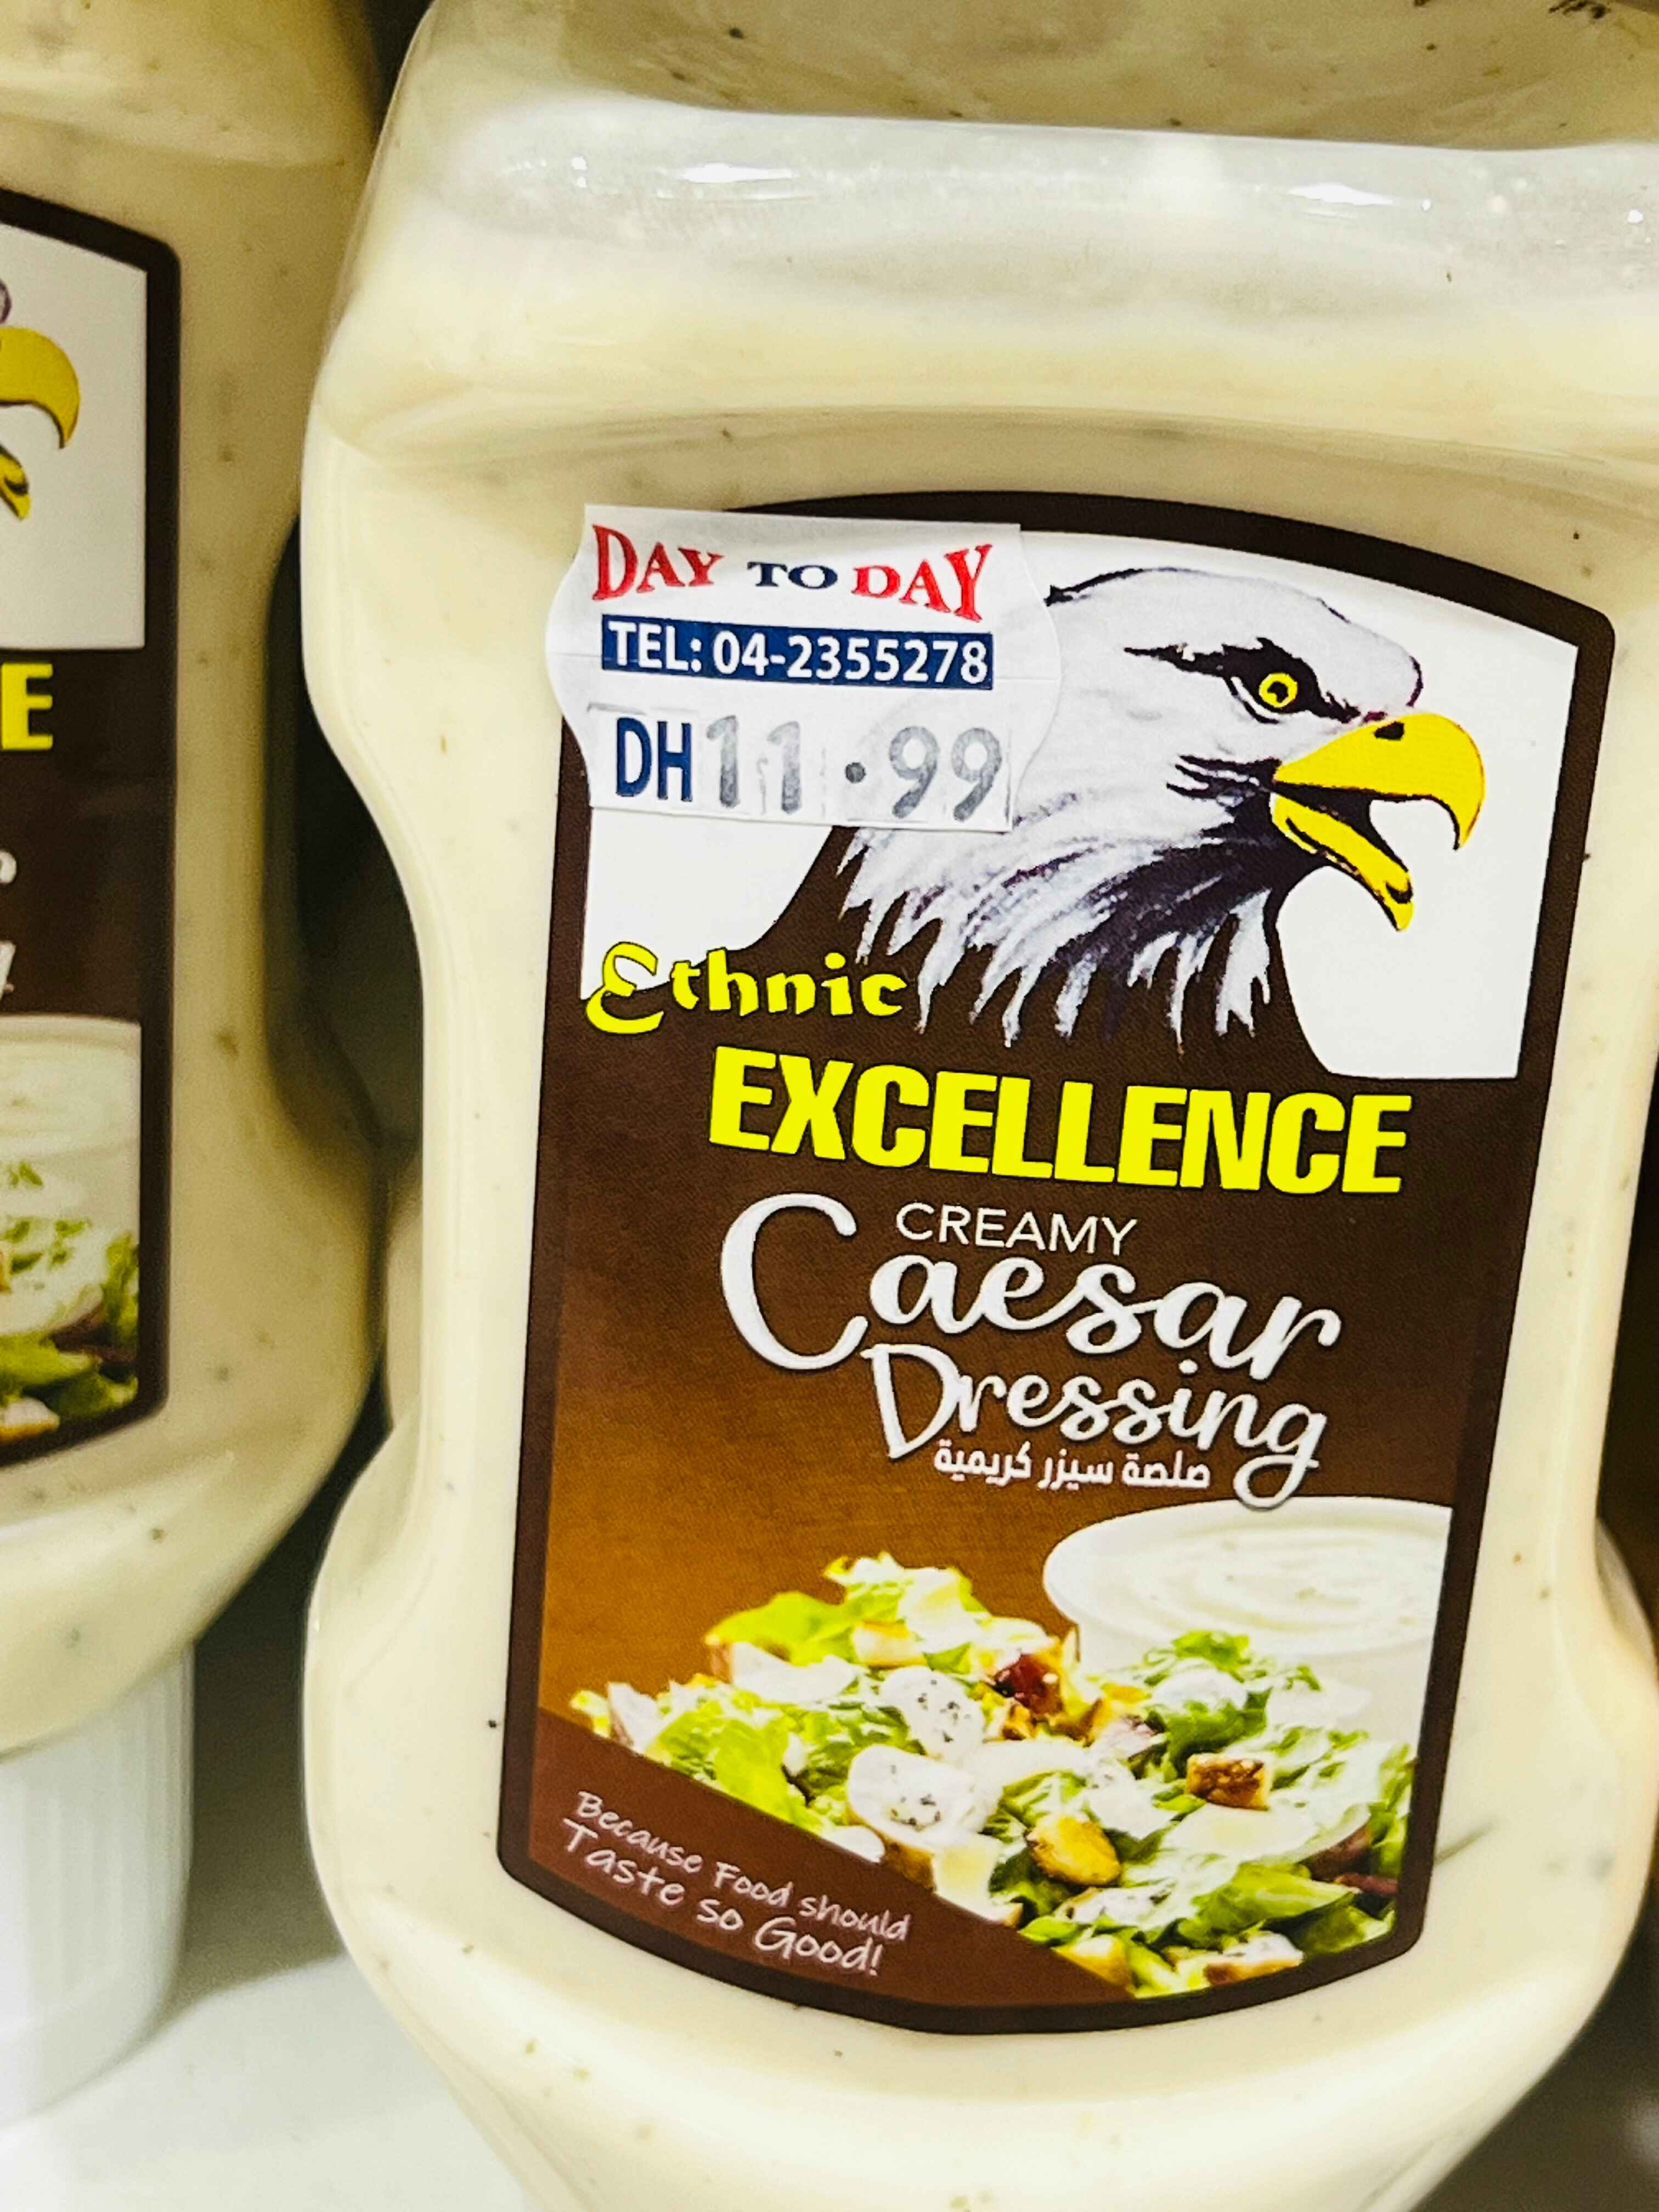PriceTagSmall: (547, 493, 1044, 841)
